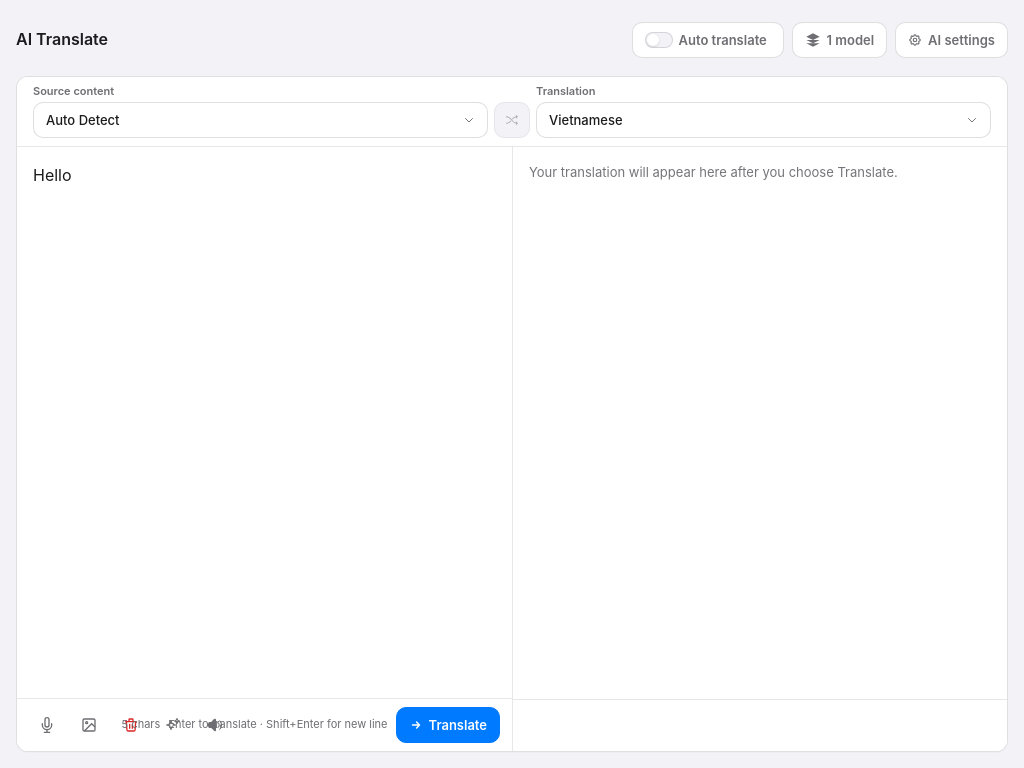
Scenario: TranslatePage › restarts an in-flight manual translation when the target language changes
Click the button "Translate" at (448, 725), box [396,707,500,743]
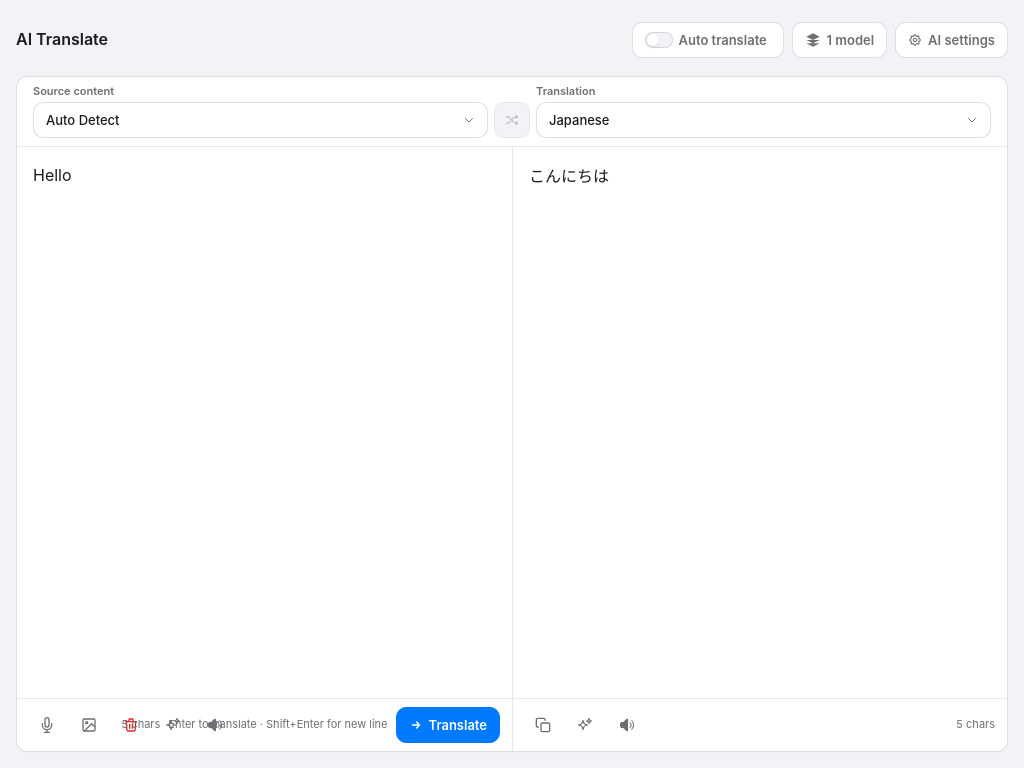
Check: the text "こんにちは" is shown, box [529,166,609,186]
